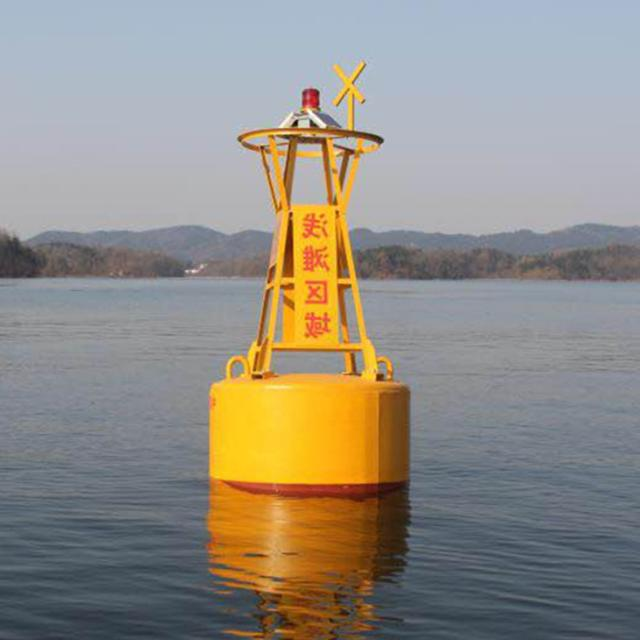buoy: (198, 54, 416, 489)
